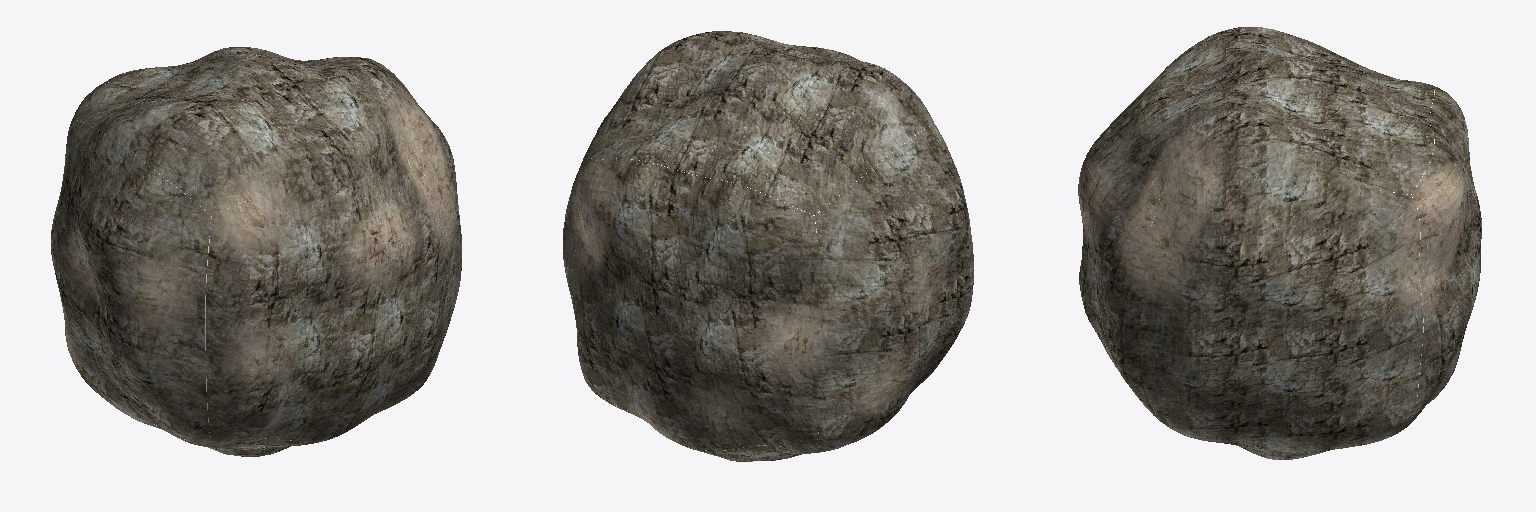
3 renders of one model, left to right at view 1: azimuth 30°, elevation 25°; view 2: azimuth 150°, elevation 25°; view 3: azimuth 270°, elevation 25°, orthographic.
Visible parts, largest first — view 1: dQuadCube; view 2: dQuadCube; view 3: dQuadCube.
Boxes of the visible parts, x1=… form: dQuadCube: x1=51, y1=47, x2=461, y2=456; dQuadCube: x1=563, y1=31, x2=973, y2=461; dQuadCube: x1=1078, y1=27, x2=1481, y2=459.
Bounding box in the file's own units: 4.15 × 4.33 × 4.06.
1 materials, 1 textured.